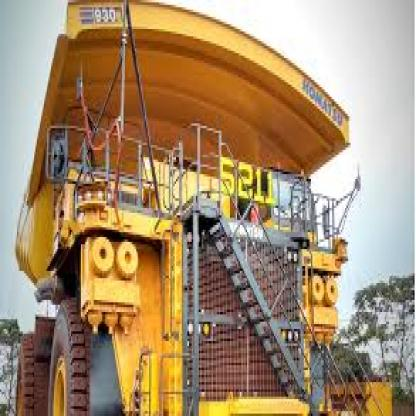dump_truck: (16, 5, 398, 413)
